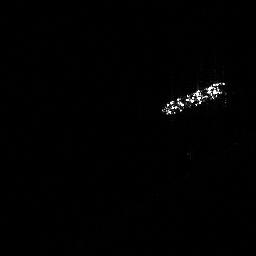ship: (160, 80, 228, 116)
